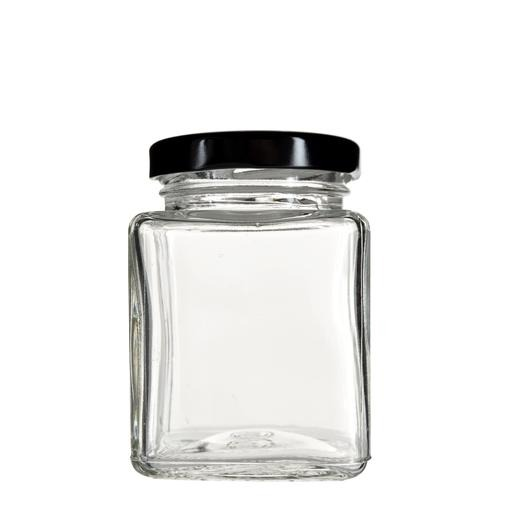container: (119, 125, 375, 485)
